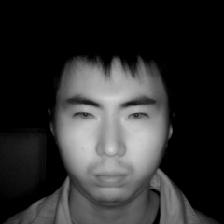normal: (48, 36, 180, 203)
